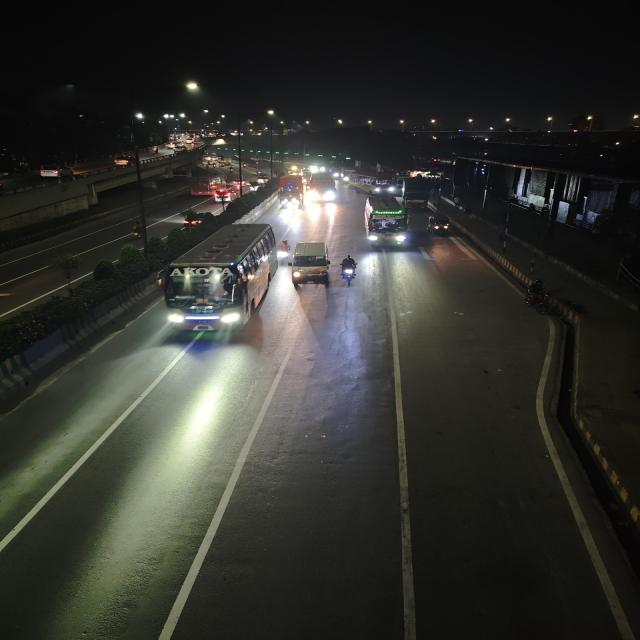bus: (157, 222, 273, 338), (361, 193, 412, 251), (348, 172, 395, 195), (307, 169, 337, 203), (189, 172, 227, 197)
car: (291, 240, 335, 288), (39, 162, 78, 182), (113, 154, 139, 170), (213, 188, 238, 204), (232, 177, 247, 186), (173, 145, 187, 154), (256, 176, 270, 183), (166, 141, 177, 148), (184, 138, 194, 143)
cng: (423, 210, 457, 242), (218, 160, 226, 168)
motorcycle: (522, 280, 552, 315), (126, 216, 148, 243), (342, 253, 359, 287), (277, 238, 293, 269), (151, 146, 161, 154), (242, 162, 250, 170), (190, 141, 196, 149), (229, 165, 234, 174), (236, 182, 240, 190)
truck: (272, 174, 306, 214), (400, 176, 433, 211), (254, 160, 270, 176)
